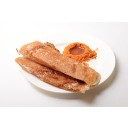dosa: (13, 41, 102, 91)
